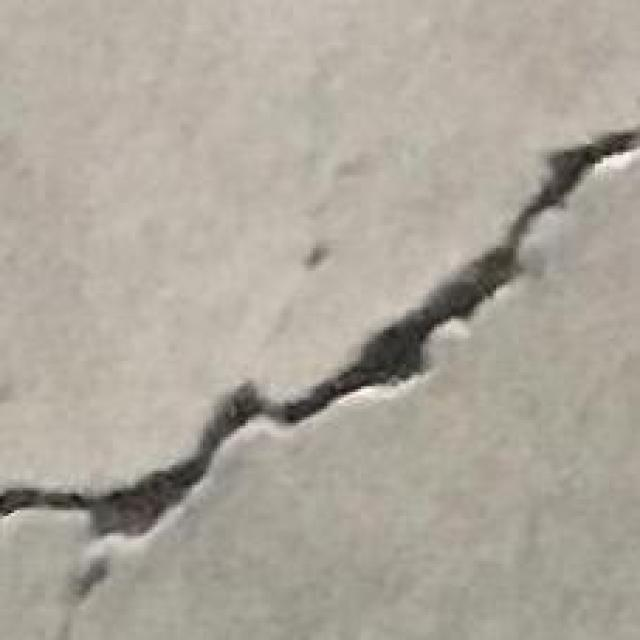diagonal crack: (0, 128, 639, 535)
